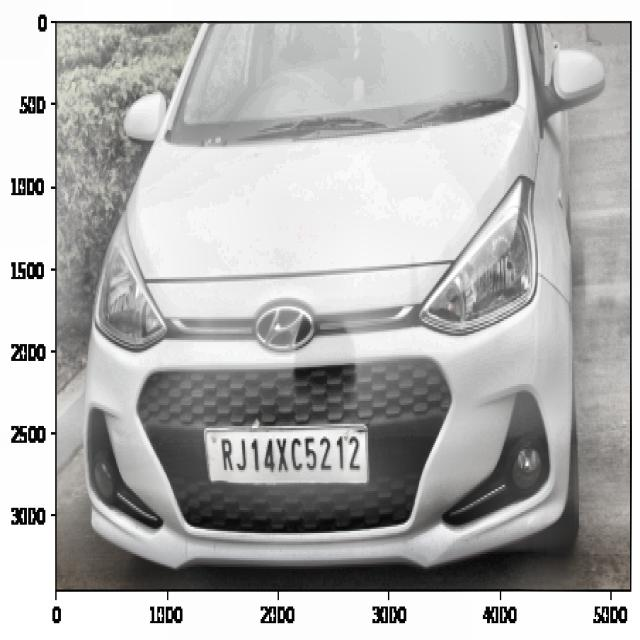license_plate: (216, 427, 366, 484)
